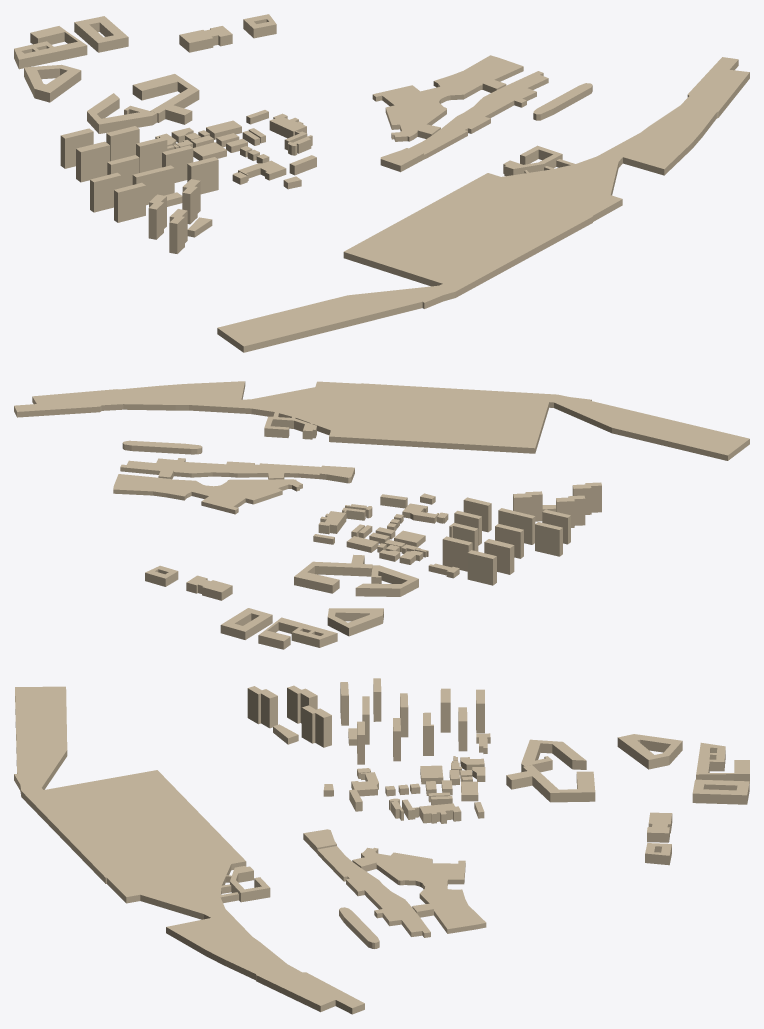
Rendered from -4_6-estimated-coarse.glb.
3 renders of one model, top to bottom at view 1: azimuth 30°, elevation 25°; view 2: azimuth 150°, elevation 25°; view 3: azimuth 270°, elevation 25°, orthographic. The views are drawn at different scales.
Bounding box in the file's own units: 1313 × 57 × 1270.
